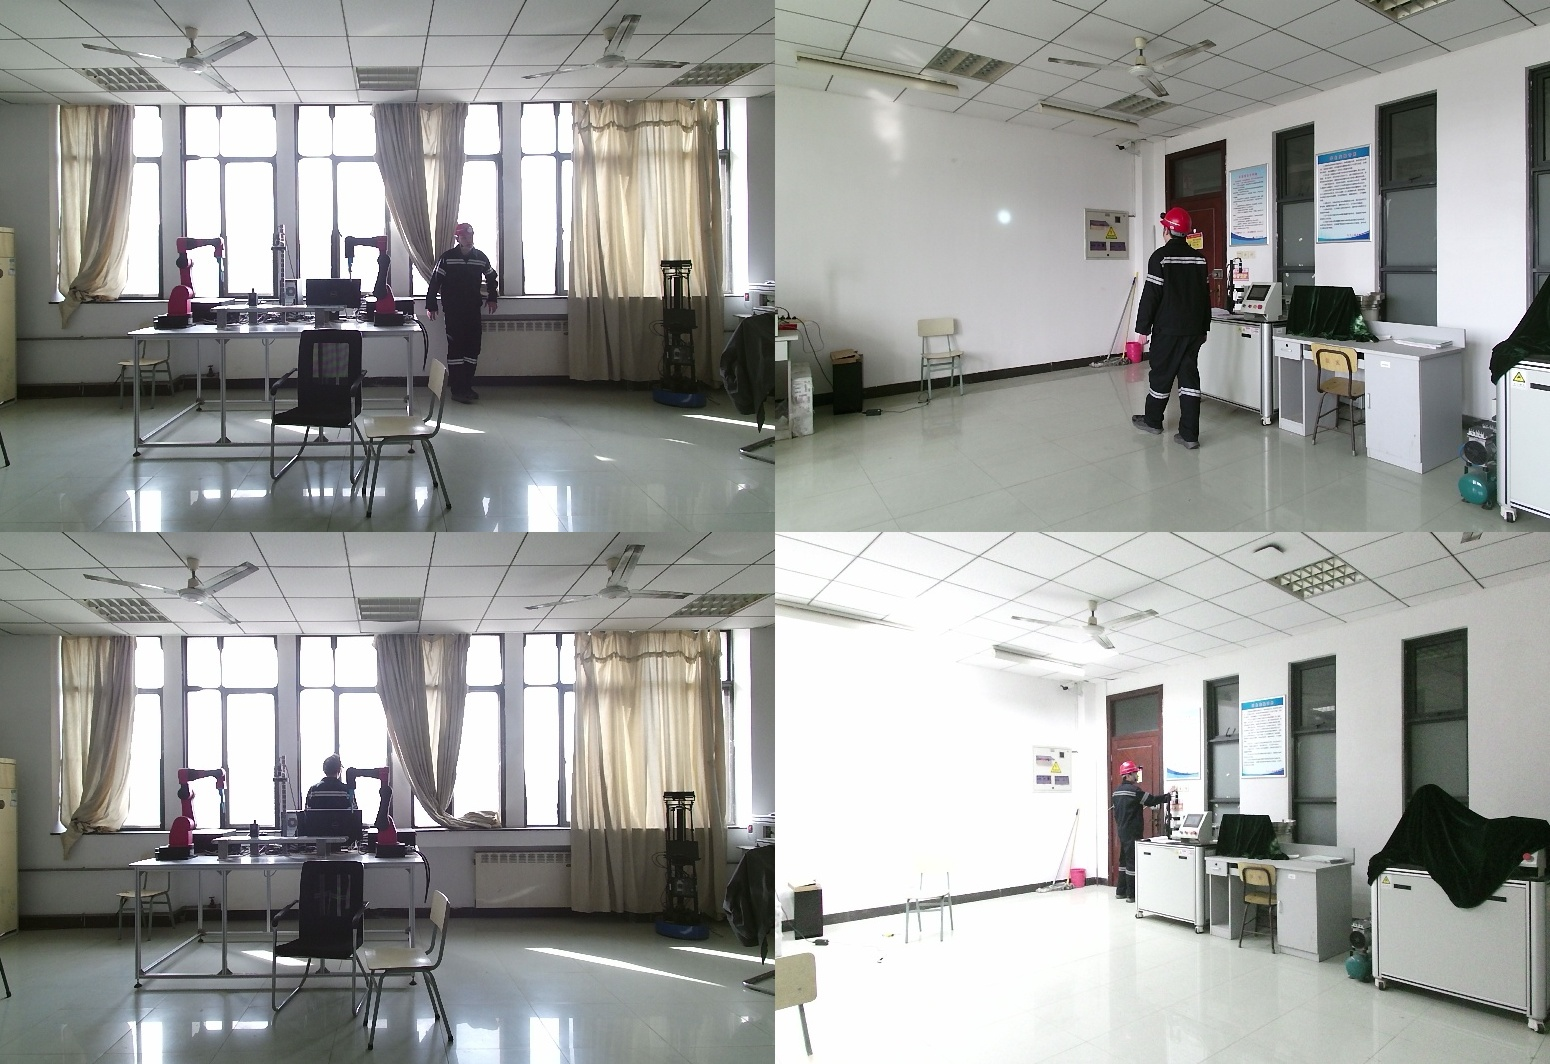person: (1132, 208, 1224, 445), (427, 225, 502, 413), (1105, 763, 1168, 908), (299, 754, 364, 841)
